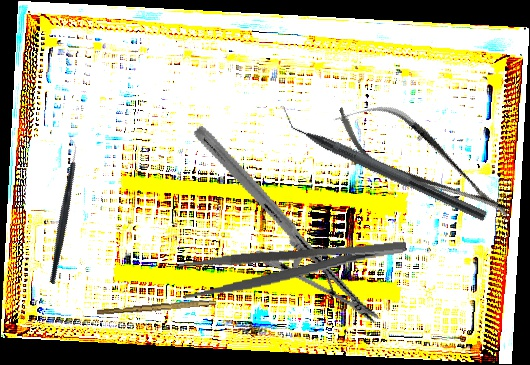Chopper: (269, 102, 496, 223), (0, 135, 124, 286)
Dressing Forceps: (178, 236, 410, 300)
Micro Scissor: (323, 81, 524, 242)
Needle Holder: (154, 124, 419, 326)
Scalpel Handle: (96, 296, 217, 318)
